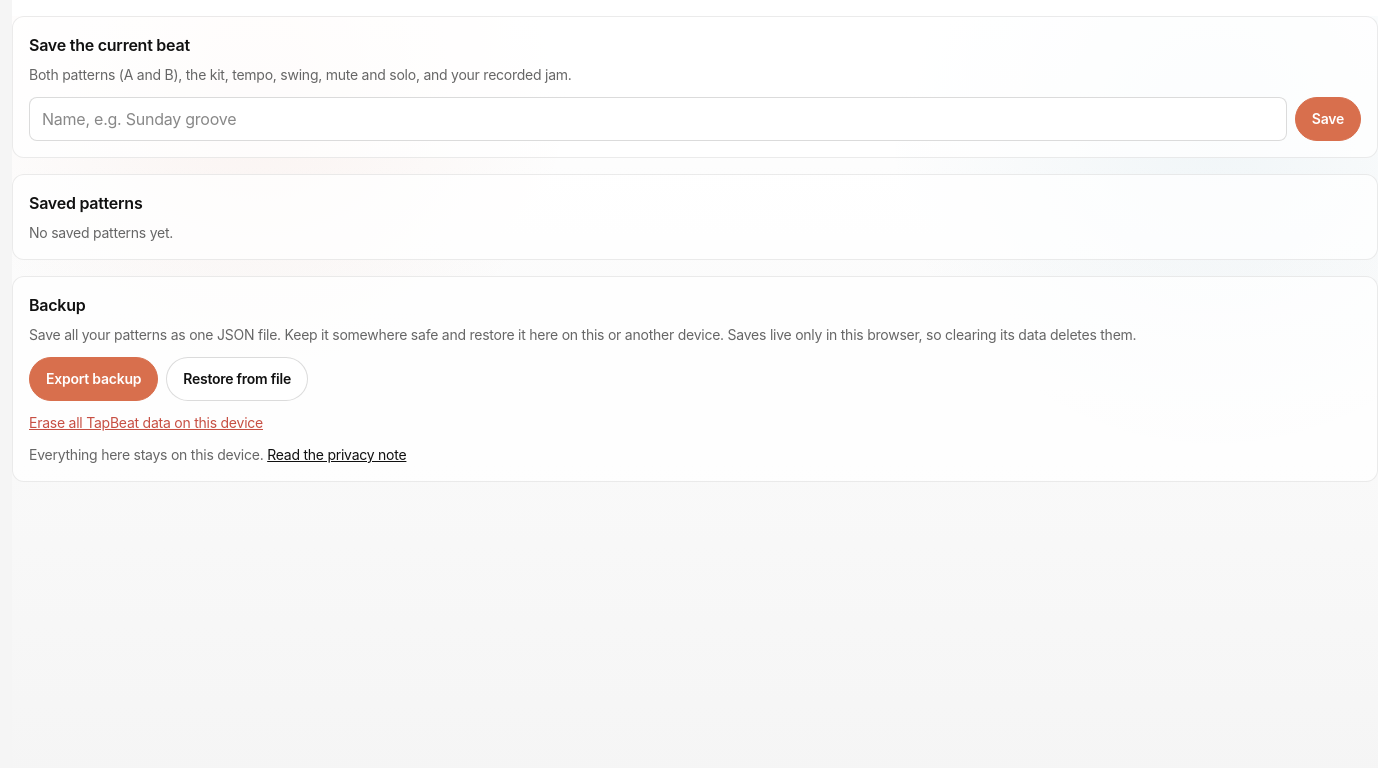
Scenario: SavesView › saves the current beat under a name, with kit and tempo
Expected: the text "No saved patterns yet." is shown, [29,224,173,241]
Type "Late night" into the field named "Pattern name" at (658, 119), box [29,97,1287,141]
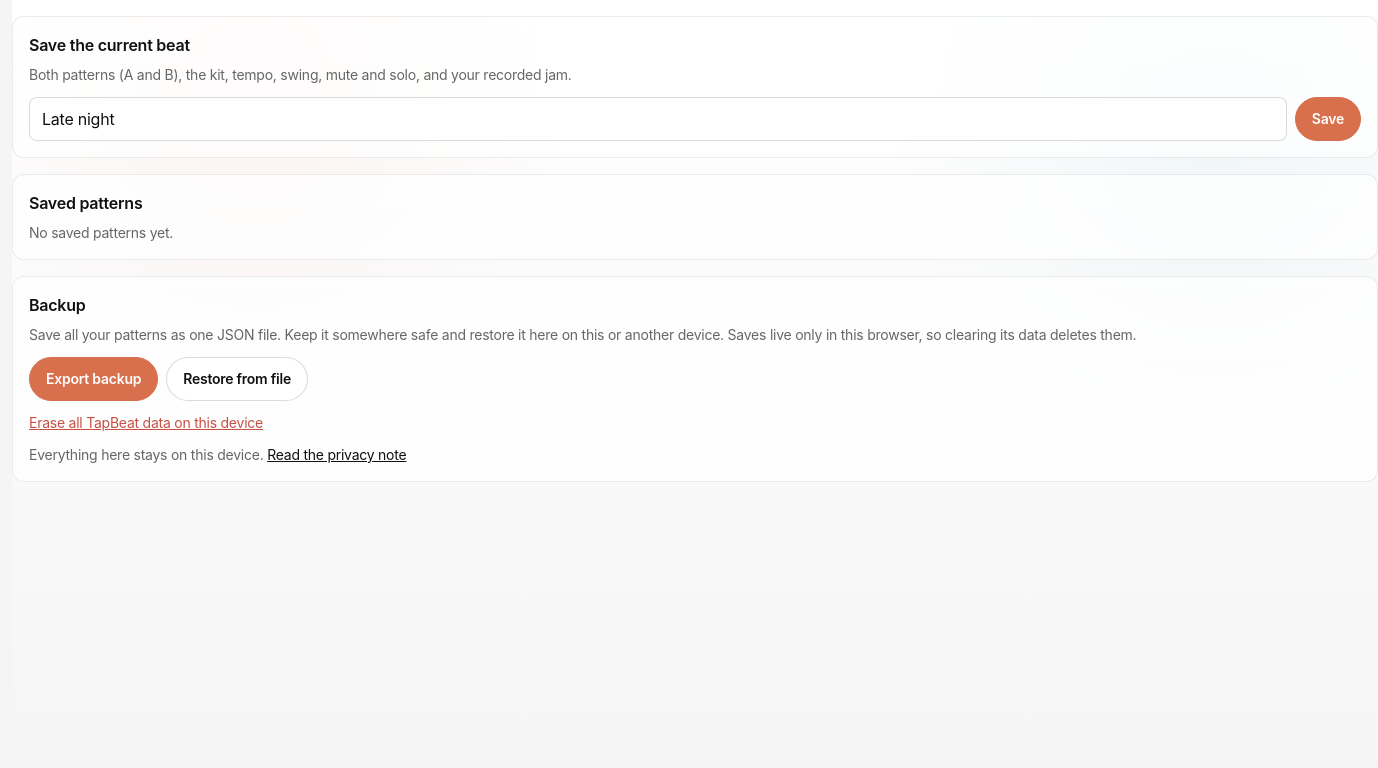
Click the button "Save" at (1328, 119), box [1295,97,1361,141]
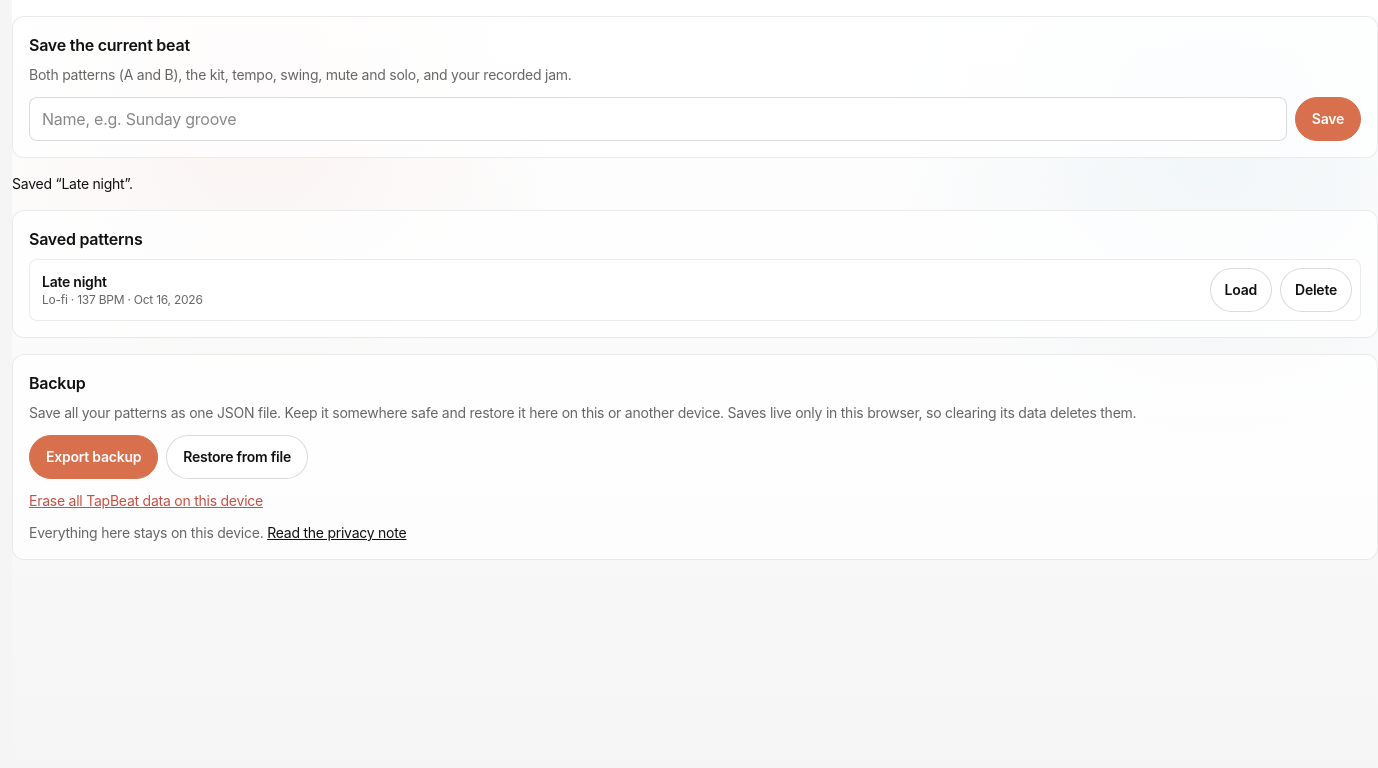
Now the message reads "Saved “Late night”.", box [12,175,133,192]
Now the text "Lo-fi · 137 BPM" is shown, box [42,292,203,307]
